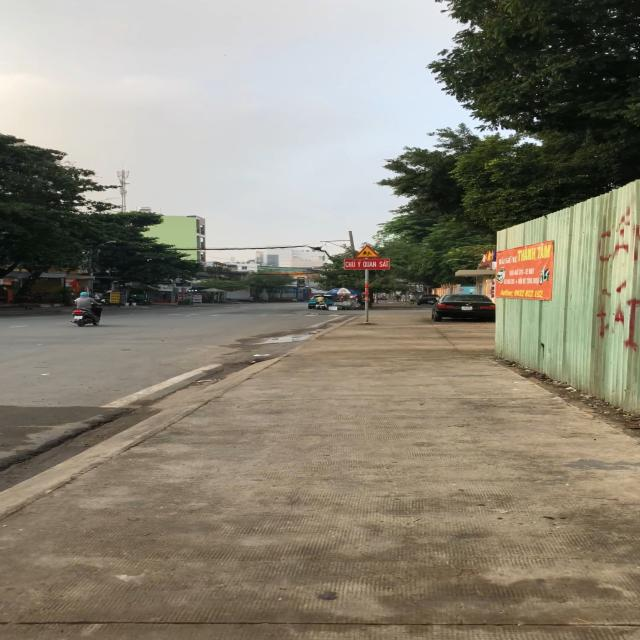Bien bao tre em: (356, 245, 380, 258)
